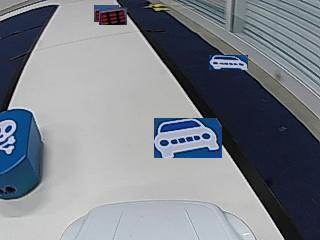danger: (0, 118, 19, 155)
